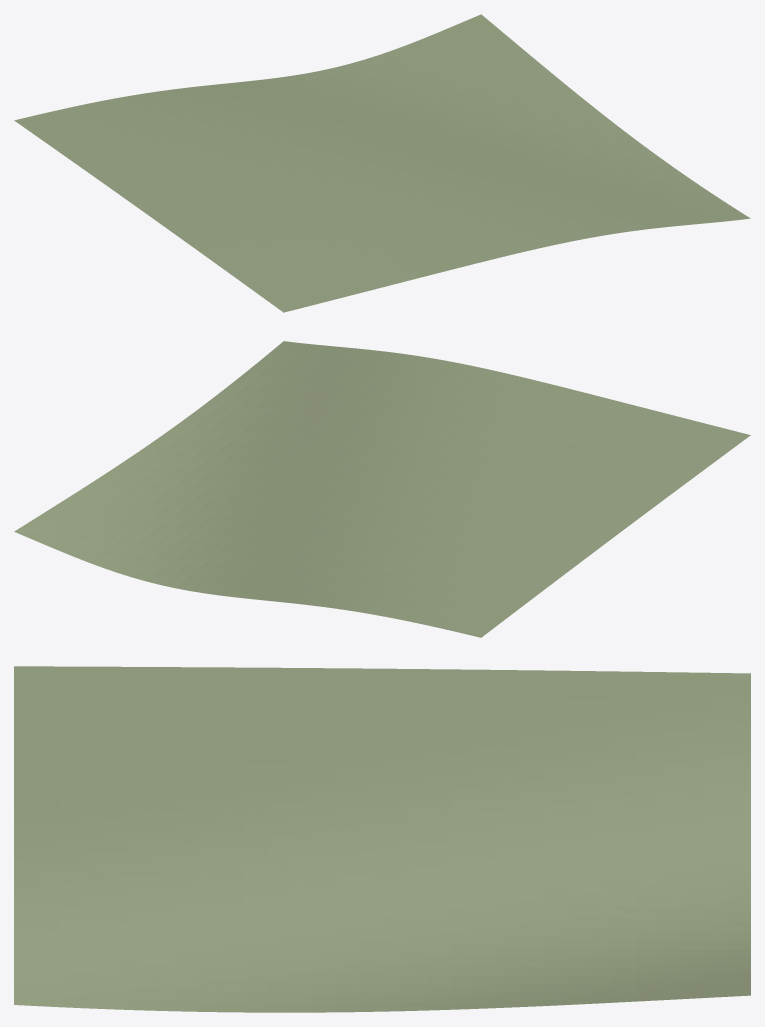
File: desert-11-17.glb
3 views of the same model, one above another, from view 1: azimuth 30°, elevation 25°; view 2: azimuth 150°, elevation 25°; view 3: azimuth 270°, elevation 25° (orthographic). The views are drawn at different scales.
Visible parts, largest first — view 1: desert-11-17; view 2: desert-11-17; view 3: desert-11-17.
Part boxes in pixels (x1,y1,x2,y2): desert-11-17: [14, 14, 750, 312]; desert-11-17: [14, 341, 750, 637]; desert-11-17: [14, 666, 750, 1012].
Size of the model in its own units: 512 by 34.46 by 512.
